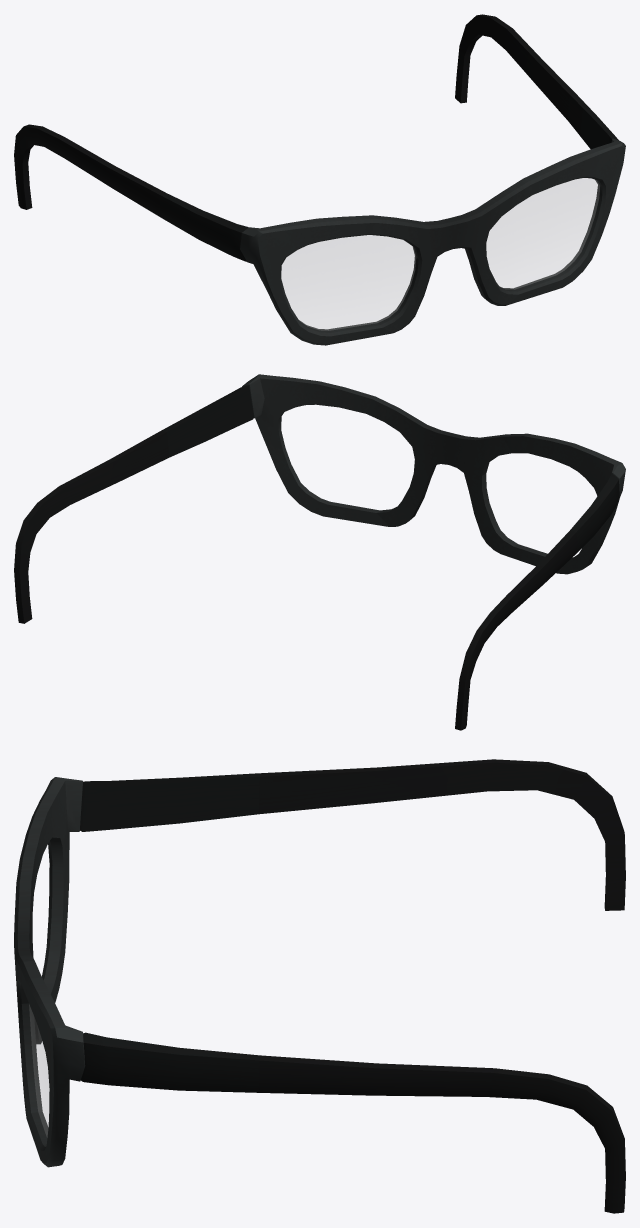
The picture shows the model from 3 angles, top to bottom: view 1: azimuth 30°, elevation 25°; view 2: azimuth 150°, elevation 25°; view 3: azimuth 270°, elevation 25°; orthographic projection. The views are drawn at different scales.
Parts seen in each view (by area): view 1: Wolf3D_Glasses; view 2: Wolf3D_Glasses; view 3: Wolf3D_Glasses.
Part boxes in pixels (x1=…): Wolf3D_Glasses: x1=14, y1=14, x2=625, y2=345; Wolf3D_Glasses: x1=14, y1=374, x2=625, y2=730; Wolf3D_Glasses: x1=14, y1=759, x2=625, y2=1213.
Size of the model in its own units: 0.1663 by 0.0443 by 0.1354.
Materials: 1 (1 with a texture image).
